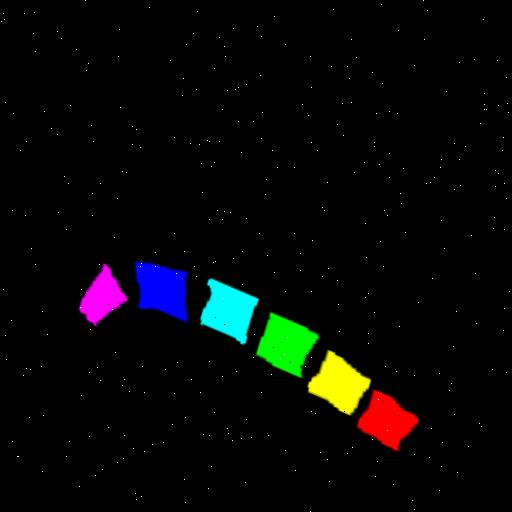L1: (346, 386, 408, 448)
L2: (298, 346, 361, 412)
L3: (247, 310, 310, 375)
L4: (191, 277, 249, 342)
L5: (128, 260, 179, 320)
S1: (70, 264, 119, 324)
